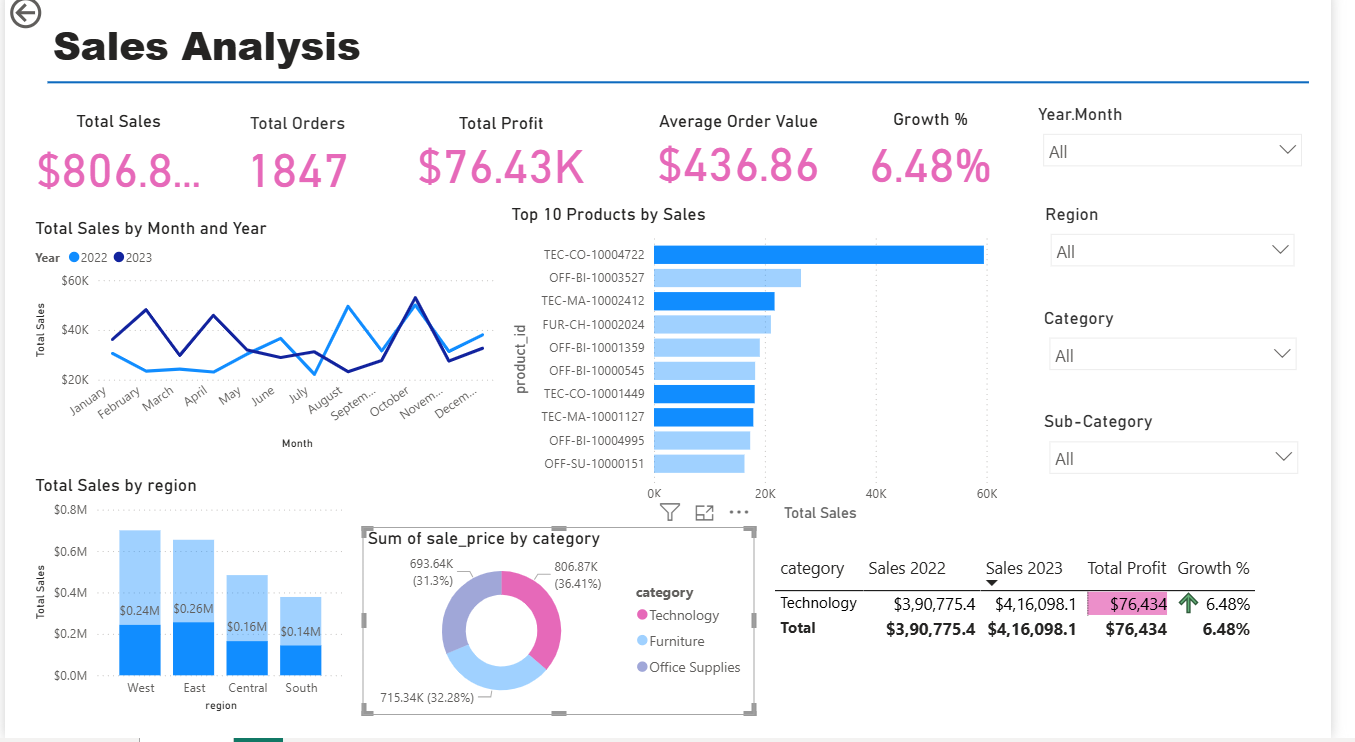

This screenshot's page, from the dashboard's own definition file:
{"tool":"powerbi","page":{"name":"Page 1","canvas":[1280,720],"ordinal":0},"visuals":[{"type":"card","title":"Total Sales","fields":{"Values":["retail df_orders.Total Sales"]},"box":[23.8,115,171.2,85],"z":1000},{"type":"donutChart","fields":{"Category":["retail df_orders.category"],"Y":["Sum(retail df_orders.sale_price)"]},"box":[345,516.2,378.8,181.2],"z":2000},{"type":"barChart","title":"Top 10 Products by Sales","fields":{"Category":["retail df_orders.product_id"],"Y":["Sum(retail df_orders.sale_price)"]},"box":[483.8,203.8,478.8,312.5],"z":3000},{"type":"card","title":"Total Orders","fields":{"Values":["retail df_orders.Total Orders"]},"box":[210,116.2,145,83.8],"z":4000},{"type":"card","title":"Total Profit","fields":{"Values":["retail df_orders.Total Profit"]},"box":[375,116.2,207.5,75],"z":5000},{"type":"card","title":"Average Order Value","fields":{"Values":["retail df_orders.Average Order Value"]},"box":[606.2,115,202.5,75],"z":6000},{"type":"actionButton","box":[0,0,100,40],"z":7000},{"type":"lineChart","fields":{"Y":["retail df_orders.Total Sales"],"Category":["retail df_orders.order_date.Variation.Date Hierarchy.Month"],"Series":["retail df_orders.order_date.Variation.Date Hierarchy.Year"]},"box":[23.8,217.5,455,230],"z":8000},{"type":"slicer","title":"Category","fields":{"Values":["retail df_orders.category"]},"box":[997.9,304.3,258.6,81.4],"z":9000},{"type":"slicer","title":"Sub-Category","fields":{"Values":["retail df_orders.sub_category"]},"box":[997.2,404.3,260,84.3],"z":10000},{"type":"slicer","title":"Region","fields":{"Values":["retail df_orders.region"]},"box":[999.3,204.3,255.7,77.1],"z":11000},{"type":"slicer","title":"Year.Month","fields":{"Values":["retail df_orders.order_date.Variation.Date Hierarchy.Year","retail df_orders.order_date.Variation.Date Hierarchy.Month"]},"box":[992.2,107.5,270,98.8],"z":12000},{"type":"columnChart","fields":{"Category":["retail df_orders.region"],"Y":["retail df_orders.Total Sales"]},"box":[23.8,466.2,308.8,233.8],"z":13000},{"type":"card","title":"Growth %","fields":{"Values":["retail df_orders.Growth %"]},"box":[823.8,112.5,138.8,81.2],"z":14000},{"type":"pivotTable","fields":{"Rows":["retail df_orders.category"],"Values":["retail df_orders.Sales 2022","retail df_orders.Sales 2023","retail df_orders.Total Profit","retail df_orders.Growth %"]},"box":[738.8,537.5,518.8,160],"z":15000},{"type":"textbox","box":[41.2,20,581.2,67.5],"z":15001},{"type":"shape","box":[41.2,61.2,1217.5,51.2],"z":15002}]}

Visuals, with their boxes in screenshot pixels (x1, y1, x2, y2), scaled from the page's 1280x720 canvas onto the 1355x742 screenshot:
"Total Sales" card: x1=25 y1=119 x2=206 y2=206
donutChart - retail df_orders.category x Sum(retail df_orders.sale_price): x1=365 y1=532 x2=766 y2=719
"Top 10 Products by Sales" barChart: x1=512 y1=210 x2=1019 y2=532
"Total Orders" card: x1=222 y1=120 x2=376 y2=206
"Total Profit" card: x1=397 y1=120 x2=617 y2=197
"Average Order Value" card: x1=642 y1=119 x2=856 y2=196
actionButton: x1=0 y1=0 x2=106 y2=41
lineChart - retail df_orders.Total Sales x retail df_orders.order_date.Variation.Date Hierarchy.Month: x1=25 y1=224 x2=507 y2=461
"Category" slicer: x1=1056 y1=314 x2=1330 y2=397
"Sub-Category" slicer: x1=1056 y1=417 x2=1331 y2=504
"Region" slicer: x1=1058 y1=211 x2=1329 y2=290
"Year.Month" slicer: x1=1050 y1=111 x2=1336 y2=213
columnChart - retail df_orders.region x retail df_orders.Total Sales: x1=25 y1=480 x2=352 y2=721
"Growth %" card: x1=872 y1=116 x2=1019 y2=200
pivotTable - retail df_orders.category x retail df_orders.Sales 2022: x1=782 y1=554 x2=1331 y2=719
textbox: x1=44 y1=21 x2=659 y2=90
shape: x1=44 y1=63 x2=1332 y2=116
